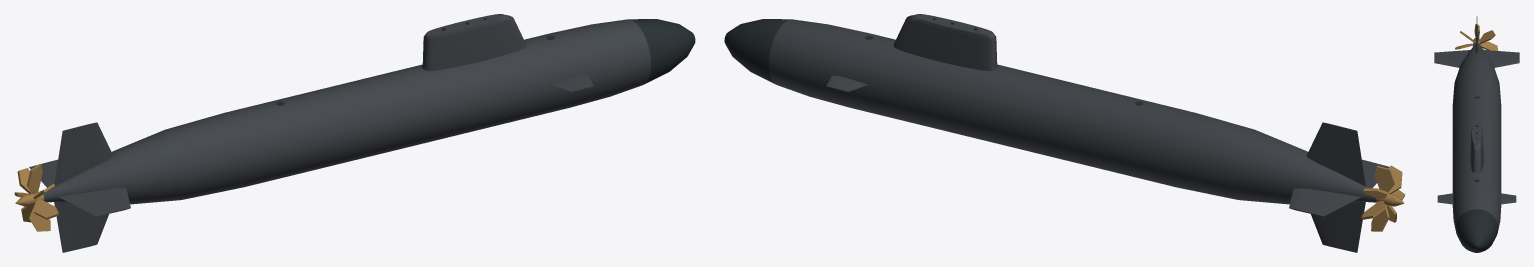
File: rfn_ssn_yasen_m.glb
3 renders of one model, left to right at view 1: azimuth 30°, elevation 25°; view 2: azimuth 150°, elevation 25°; view 3: azimuth 270°, elevation 25°, orthographic. The views are drawn at different scales.
Visible parts, largest first — view 1: submarine_coating, boot_topping, bronze; view 2: submarine_coating, boot_topping, bronze; view 3: submarine_coating, boot_topping, bronze.
Boxes of the visible parts, x1=… form: submarine_coating: x1=29, y1=14, x2=650, y2=252; boot_topping: x1=276, y1=18, x2=695, y2=105; bronze: x1=14, y1=164, x2=58, y2=231; submarine_coating: x1=769, y1=14, x2=1389, y2=252; boot_topping: x1=724, y1=18, x2=1143, y2=105; bronze: x1=1361, y1=165, x2=1405, y2=231; submarine_coating: x1=1434, y1=16, x2=1519, y2=229; boot_topping: x1=1455, y1=96, x2=1498, y2=252; bronze: x1=1455, y1=24, x2=1498, y2=50.
Bounding box in the file's own units: 10 × 1.85 × 1.72.
